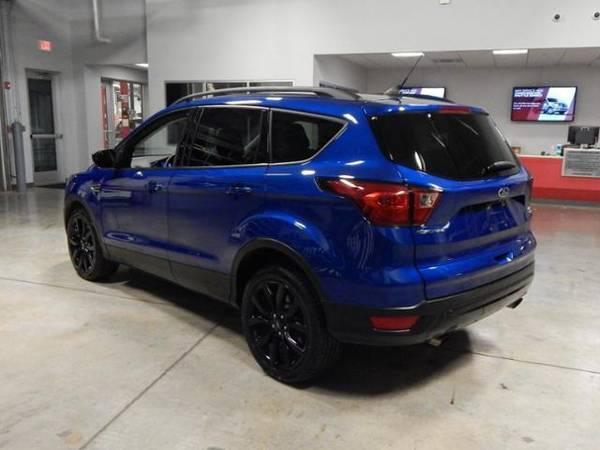Front_Fender: (63, 171, 108, 240)
Front_Left_Door: (101, 166, 179, 280)
Front_Left_Window: (108, 104, 207, 166)
Left_Taillight: (316, 173, 442, 226)
Rear_Bumper: (303, 212, 538, 334)
Rear_Fender: (270, 109, 411, 254)
Rear_Left_Door: (176, 164, 275, 307)
Rear_Left_Window: (186, 104, 278, 164)
Rear_Windshield: (365, 113, 517, 184)
Roof: (150, 90, 485, 159)
Tailgate: (397, 166, 535, 297)
Wheel: (242, 267, 339, 385), (66, 208, 117, 278)
